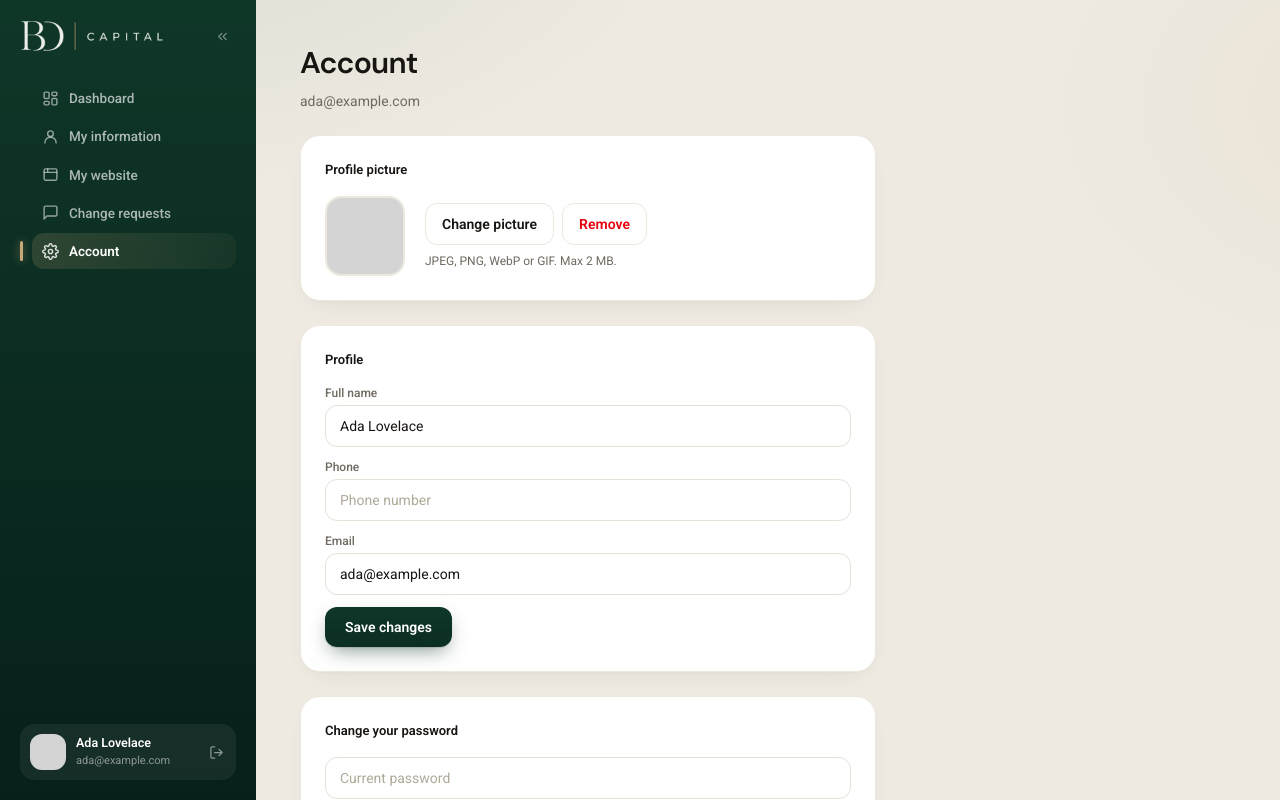
Test case: Account inside the real auth provider › removing the picture brings the initials back everywhere
What coordinates should you click on to do the following:
click the button "Remove"
I would click on:
 (605, 224)
Its box is [562,202,647,244].
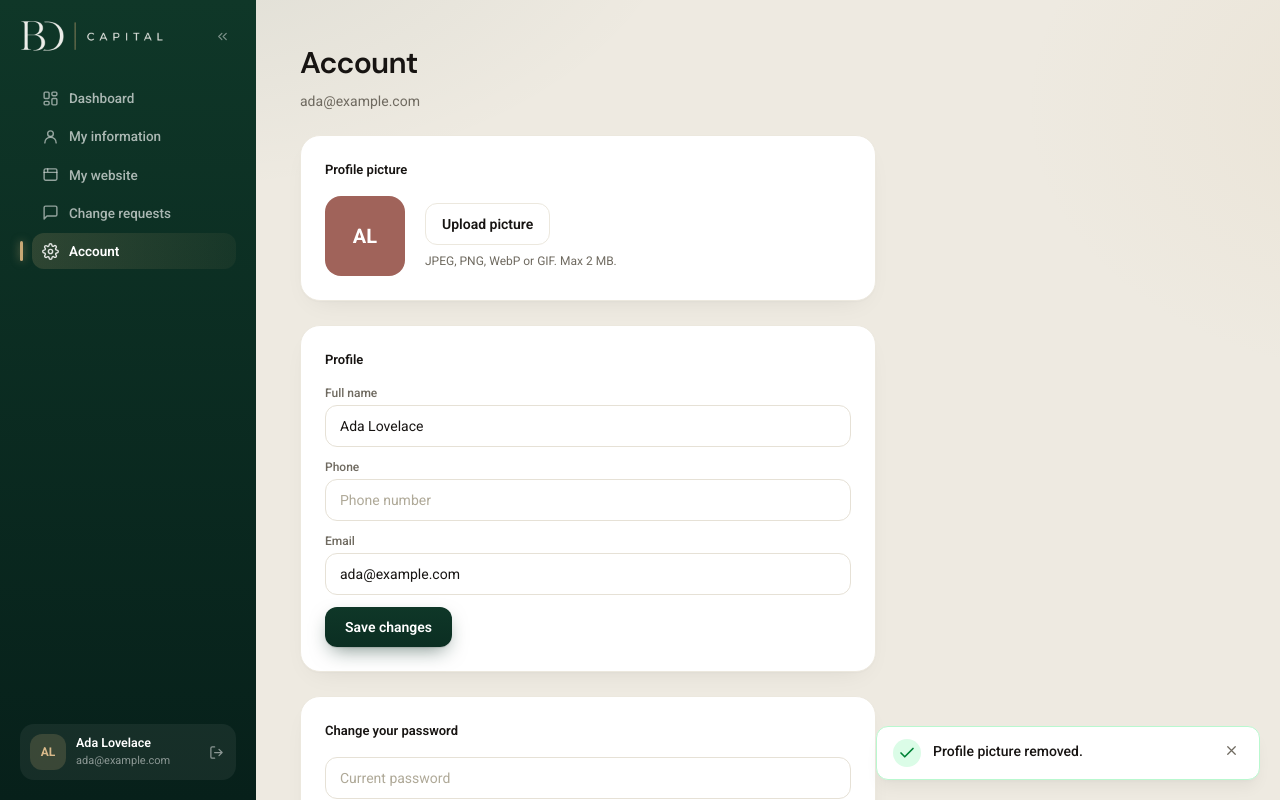
Result: the button "Upload picture" is shown at [425,202,550,244]
